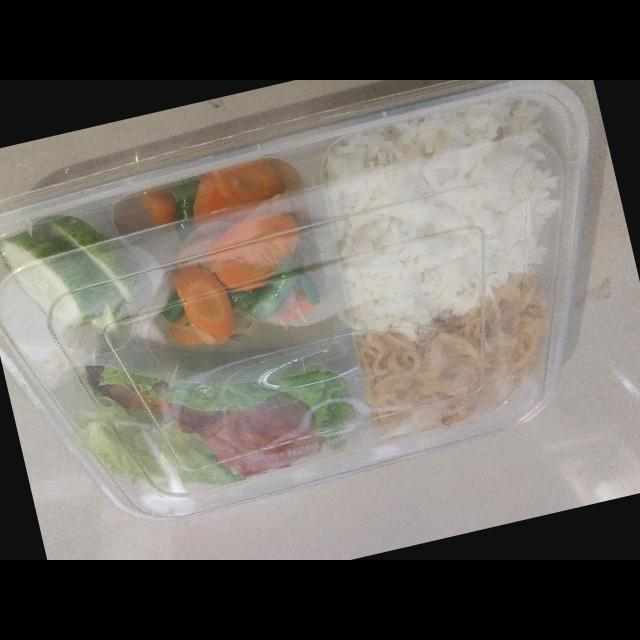bento: (0, 80, 590, 521)
